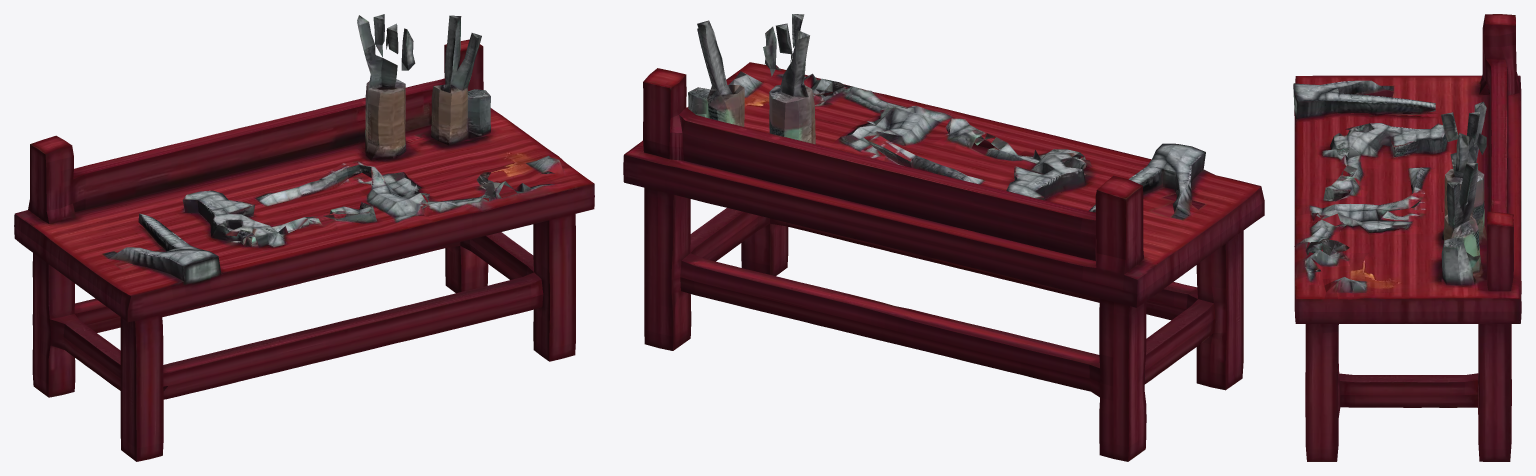
Rendered from red_workbend_2.glb.
3 renders of one model, left to right at view 1: azimuth 30°, elevation 25°; view 2: azimuth 150°, elevation 25°; view 3: azimuth 270°, elevation 25°, orthographic. The views are drawn at different scales.
Size of the model in its own units: 1.92 by 1.2 by 0.825.
1 material, 1 textured.
